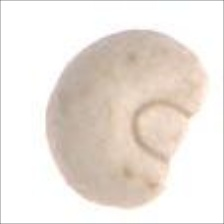L5: (130, 98, 192, 164)
L6: (42, 27, 210, 211)
